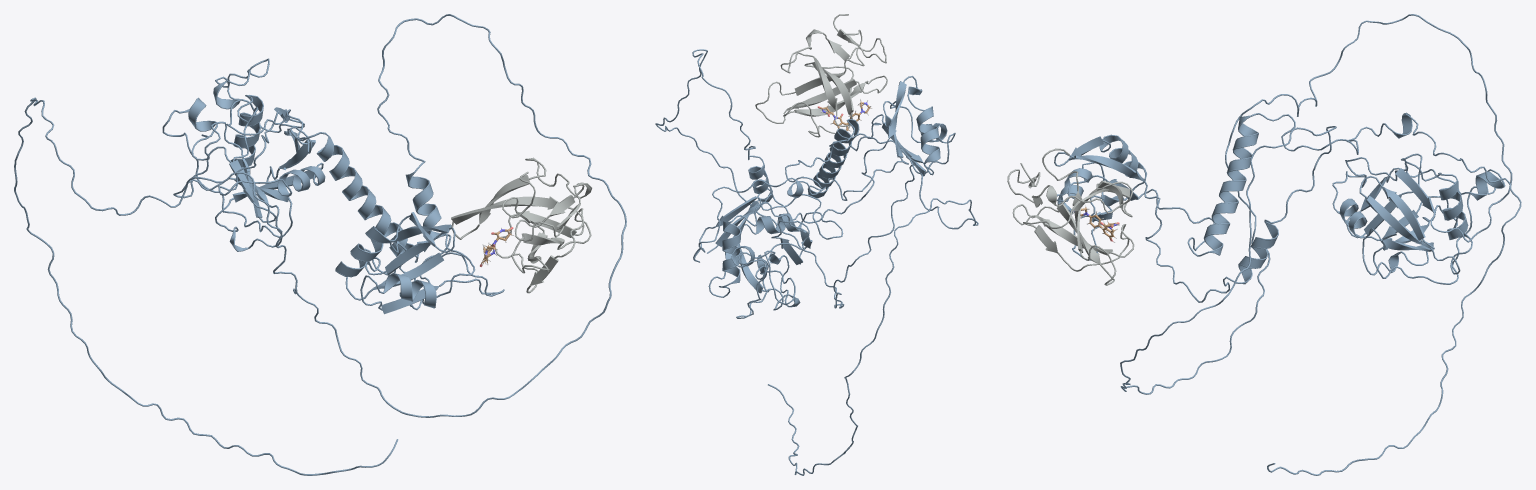
3 views of the same model, side by side, from view 1: azimuth 30°, elevation 25°; view 2: azimuth 150°, elevation 25°; view 3: azimuth 270°, elevation 25° (orthographic). The views are drawn at different scales.
Visible parts, largest first — view 1: node-geom99, node-geom100; view 2: node-geom99, node-geom100; view 3: node-geom99, node-geom100.
Boxes of the visible parts, left/top/right/bottom form: node-geom99: left=162, top=58, right=592, bottom=293; node-geom100: left=14, top=14, right=626, bottom=475; node-geom99: left=693, top=14, right=887, bottom=318; node-geom100: left=655, top=49, right=978, bottom=475; node-geom99: left=1007, top=112, right=1510, bottom=285; node-geom100: left=1054, top=14, right=1521, bottom=475.
Size of the model in its own units: 116 by 105 by 120.
